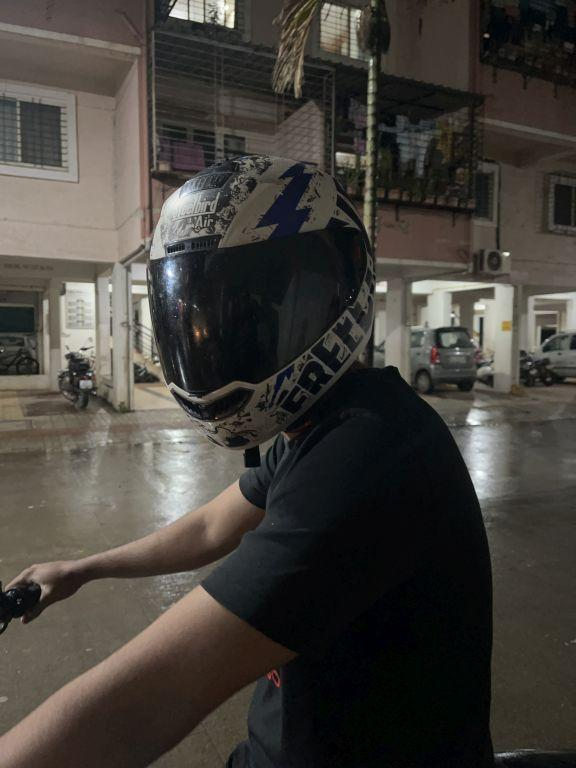helmet: (139, 139, 389, 463)
